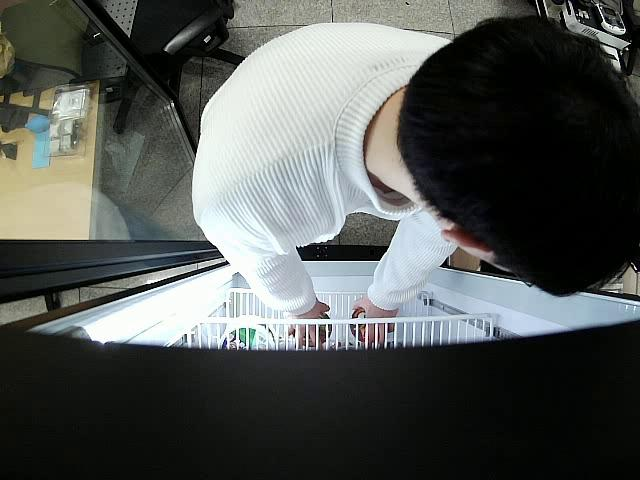00_hand: (351, 295, 397, 349), (284, 296, 330, 349)
06_nuguri_S: (349, 307, 371, 342)
